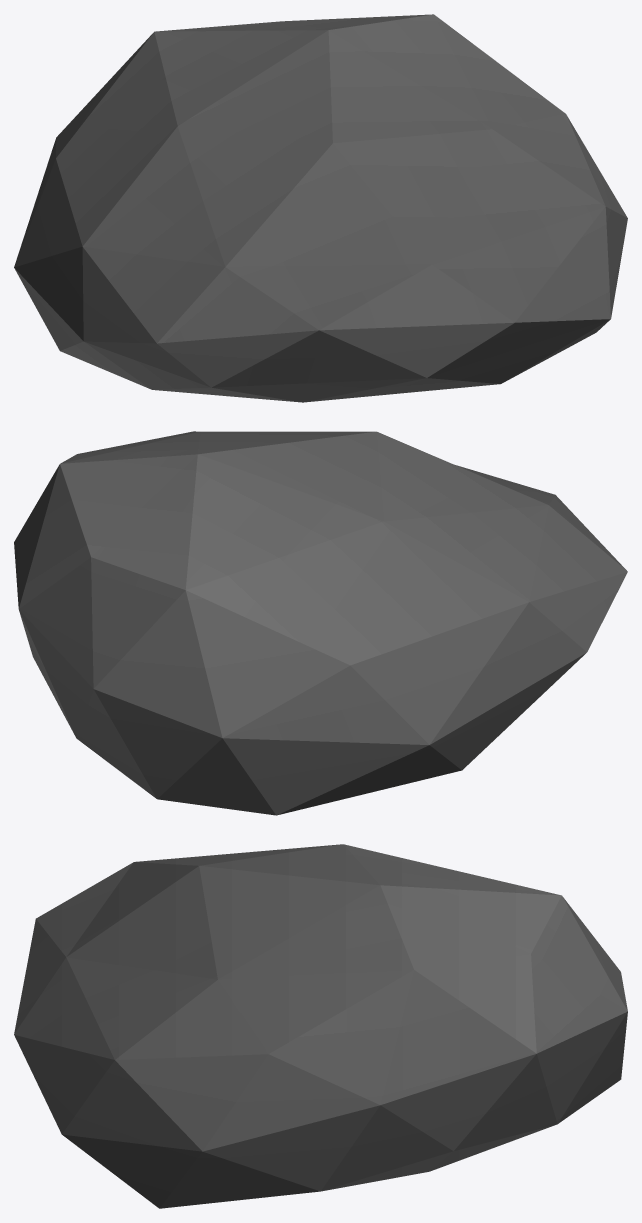
File: rocha_grande.glb
The picture shows the model from 3 angles, top to bottom: view 1: azimuth 30°, elevation 25°; view 2: azimuth 150°, elevation 25°; view 3: azimuth 270°, elevation 25°; orthographic projection. The views are drawn at different scales.
Parts seen in each view (by area): view 1: RockBigC; view 2: RockBigC; view 3: RockBigC.
Boxes of the visible parts, x1,y1,x2,y2 form: RockBigC: (14, 14, 627, 402); RockBigC: (14, 431, 627, 815); RockBigC: (14, 844, 627, 1208).
Size of the model in its own units: 2.33 by 1.15 by 2.41.
1 material, 1 textured.
